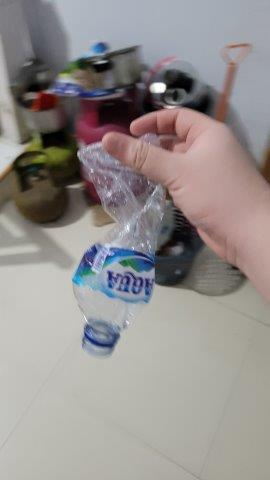botolplastik: (72, 135, 173, 350)
